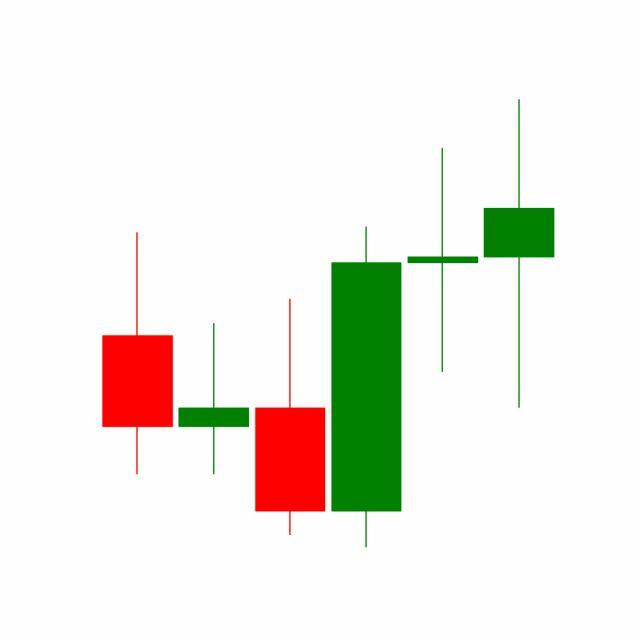Spinning Top: (404, 145, 482, 375)
